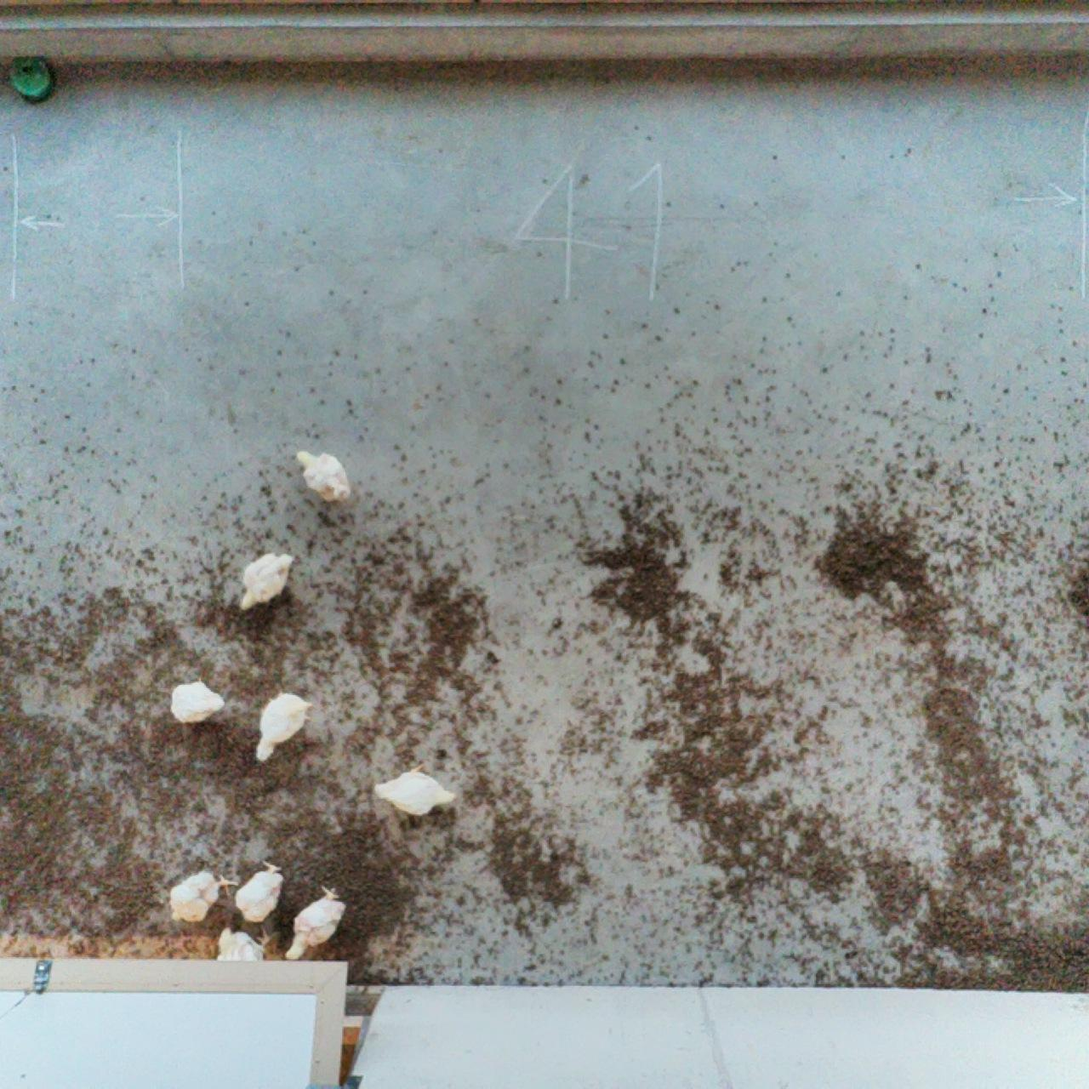chicken: (369, 759, 460, 820), (282, 882, 349, 964), (166, 865, 242, 927), (252, 688, 311, 766), (237, 546, 298, 614), (211, 922, 269, 988), (232, 856, 286, 926), (294, 443, 353, 506), (171, 672, 229, 727)
